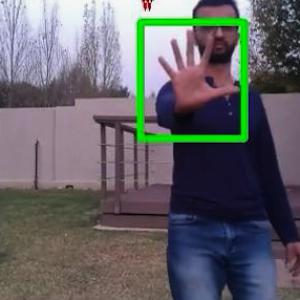follow_hand: (153, 22, 247, 121)
